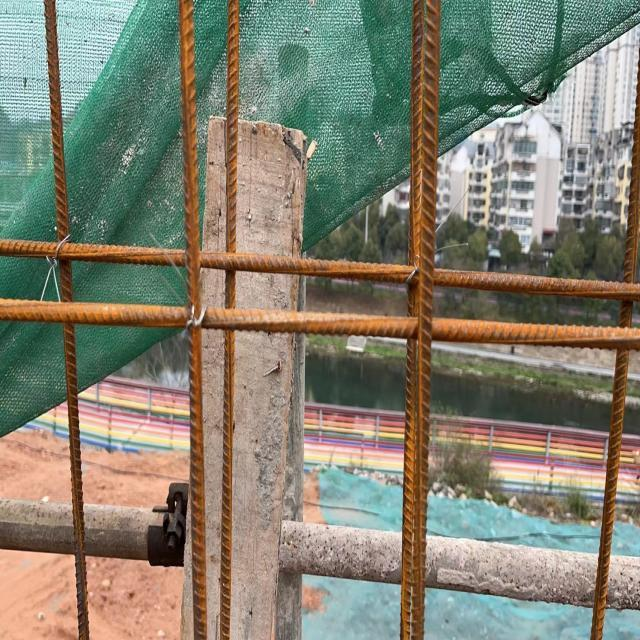ribbed bar: (0, 237, 639, 301), (0, 298, 639, 352), (43, 0, 91, 639), (590, 62, 640, 638), (399, 0, 441, 639), (177, 0, 208, 639), (219, 0, 240, 639)
